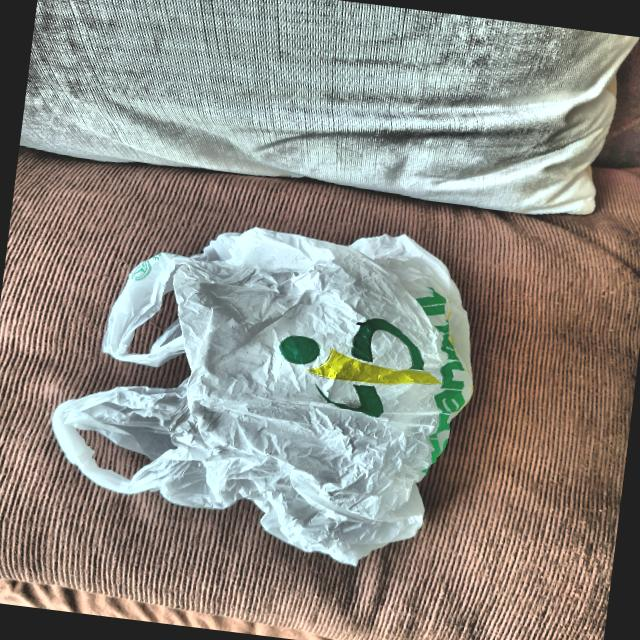plastic bag: (39, 196, 492, 576)
